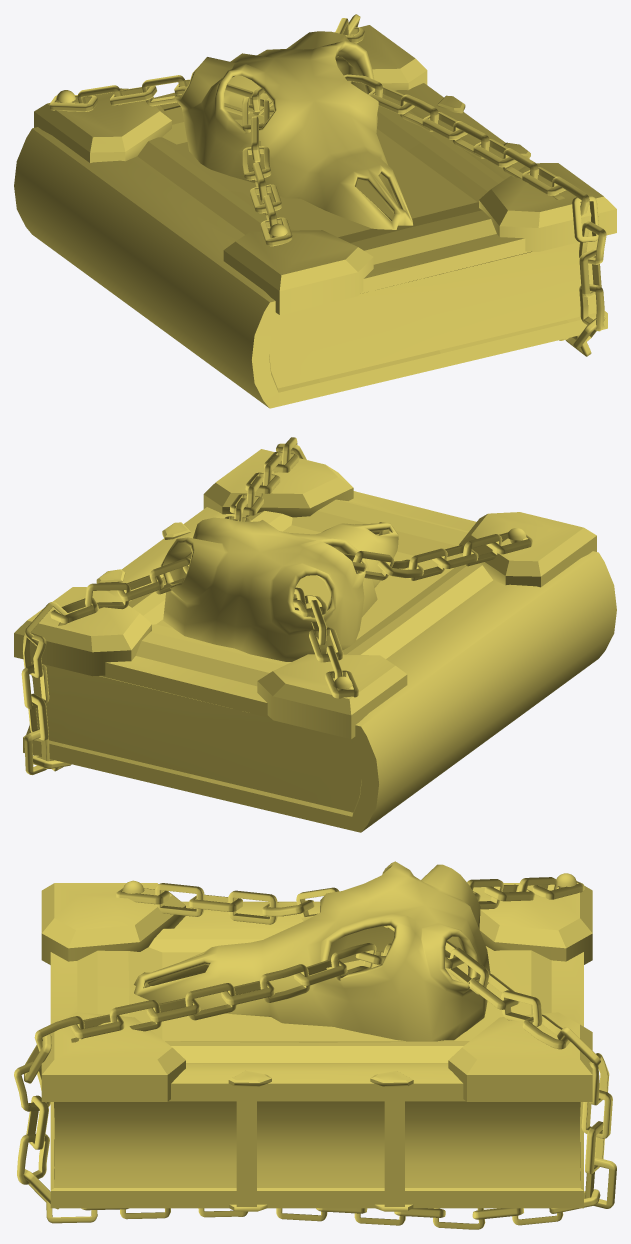
The model's file is book_darkness.fbx.
3 renders of one model, top to bottom at view 1: azimuth 30°, elevation 25°; view 2: azimuth 150°, elevation 25°; view 3: azimuth 270°, elevation 25°, orthographic. The views are drawn at different scales.
Parts seen in each view (by area): view 1: Book; view 2: Book; view 3: Book.
Part boxes in pixels (x1,y1,x2,y2): Book: (14,14,616,408); Book: (14,437,616,832); Book: (14,861,616,1229).
Size of the model in its own units: 37.45 by 22.76 by 48.25.
